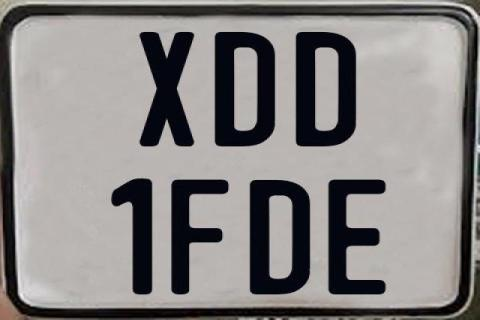0: (109, 178, 155, 296)
D: (212, 32, 276, 146), (294, 30, 358, 144), (248, 180, 309, 295)
E: (327, 177, 386, 293)
F: (171, 178, 235, 296)
X: (138, 31, 195, 147)
